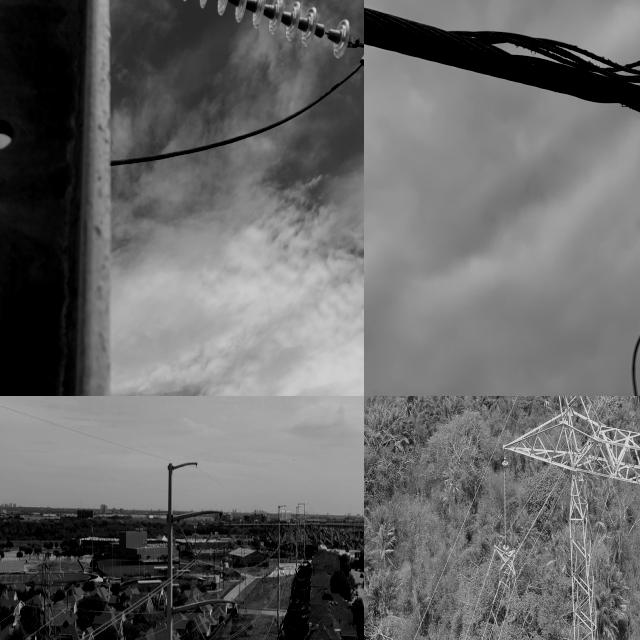杆塔: (0, 0, 127, 396), (496, 396, 640, 640), (14, 532, 76, 640)
正常绝缘子: (170, 0, 364, 82), (500, 456, 510, 554), (178, 521, 199, 562), (193, 528, 215, 564), (208, 614, 230, 640), (191, 611, 209, 640)
电缆破损: (455, 0, 640, 149)
绝缘子破损: (319, 20, 333, 43)
